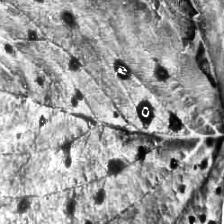Leaf Spot: (0, 0, 224, 224), (127, 140, 224, 223), (183, 0, 224, 155), (100, 0, 198, 41)
